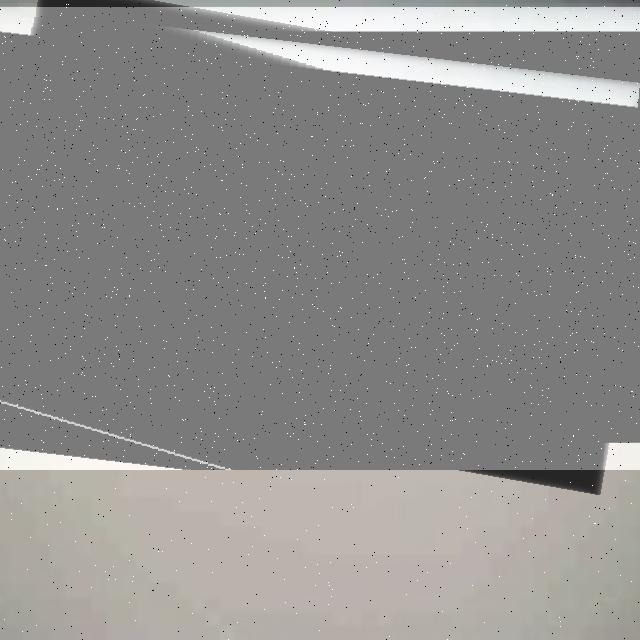dua puluh ribu rupiah: (0, 7, 640, 470)
